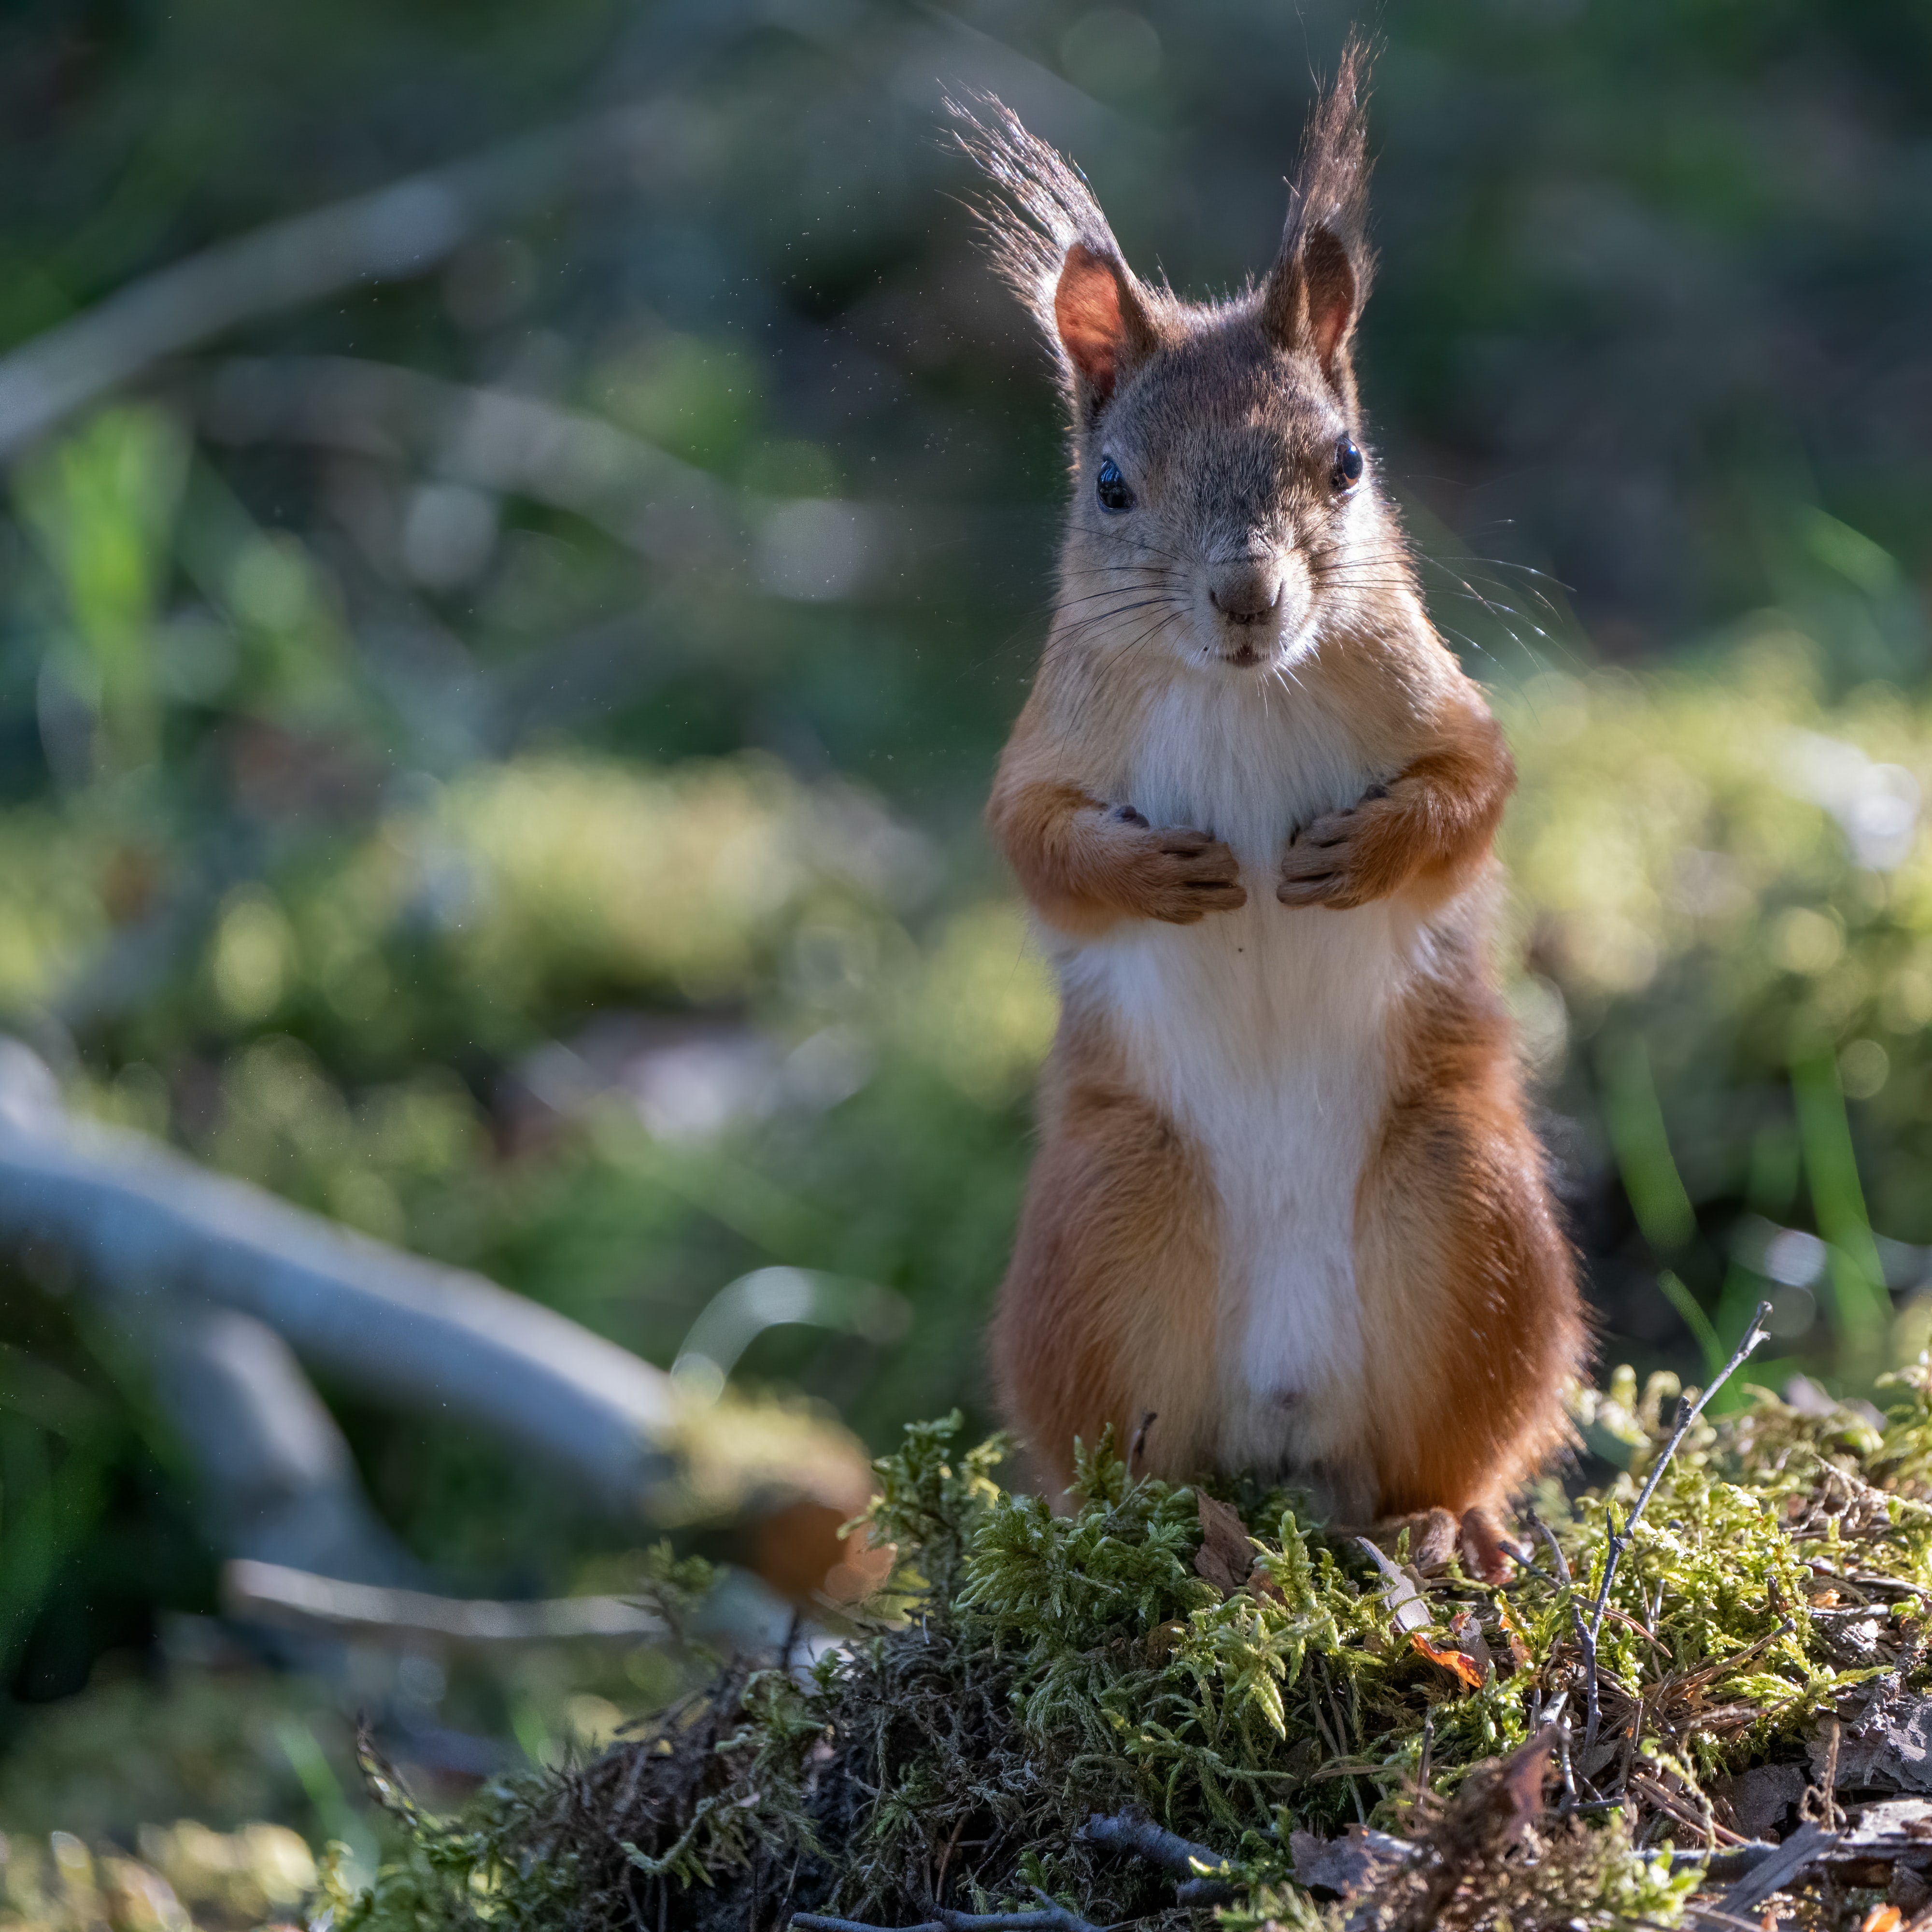squirrel: (948, 39, 1580, 1587)
